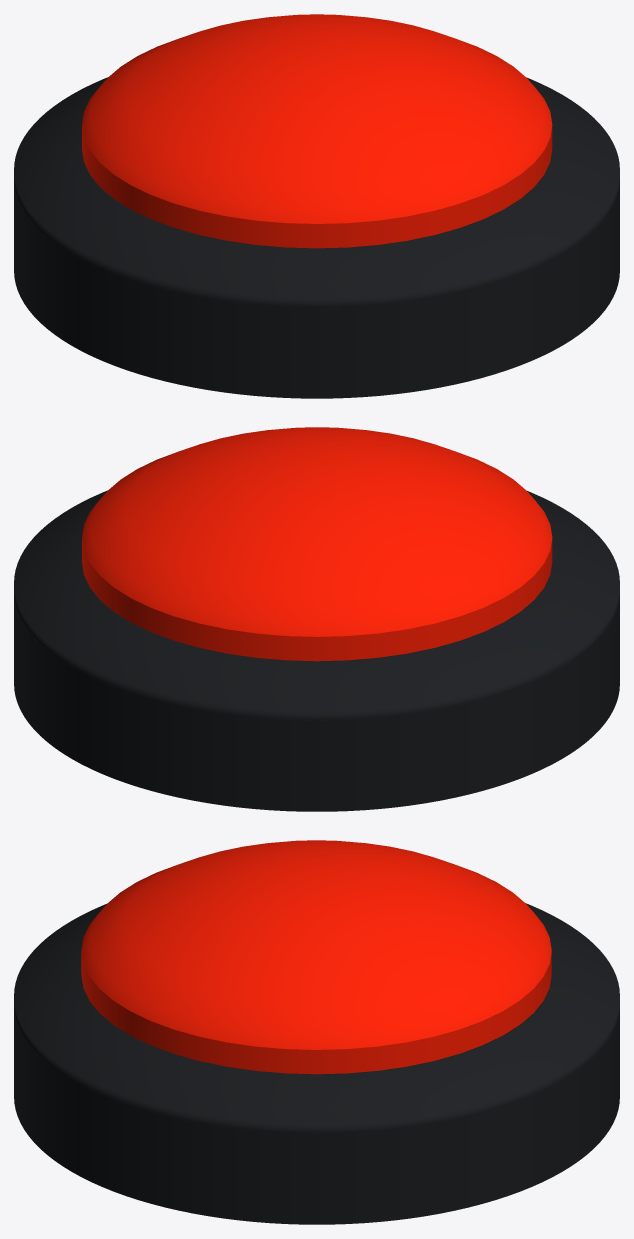
Rendered from button-hfc.glb.
3 views of the same model, one above another, from view 1: azimuth 30°, elevation 25°; view 2: azimuth 150°, elevation 25°; view 3: azimuth 270°, elevation 25° (orthographic).
Parts seen in each view (by area): view 1: top, button-hfc, base-top; view 2: top, button-hfc, base-top; view 3: top, button-hfc, base-top.
Boxes of the visible parts, <box> form: top: <box>82,14,552,248</box>; button-hfc: <box>14,182,619,398</box>; base-top: <box>14,77,619,306</box>; top: <box>82,427,552,661</box>; button-hfc: <box>14,595,619,811</box>; base-top: <box>14,490,619,720</box>; top: <box>81,840,551,1074</box>; button-hfc: <box>14,1008,619,1224</box>; base-top: <box>14,903,619,1132</box>.
Size of the model in its own units: 0.09 by 0.0358 by 0.09.
